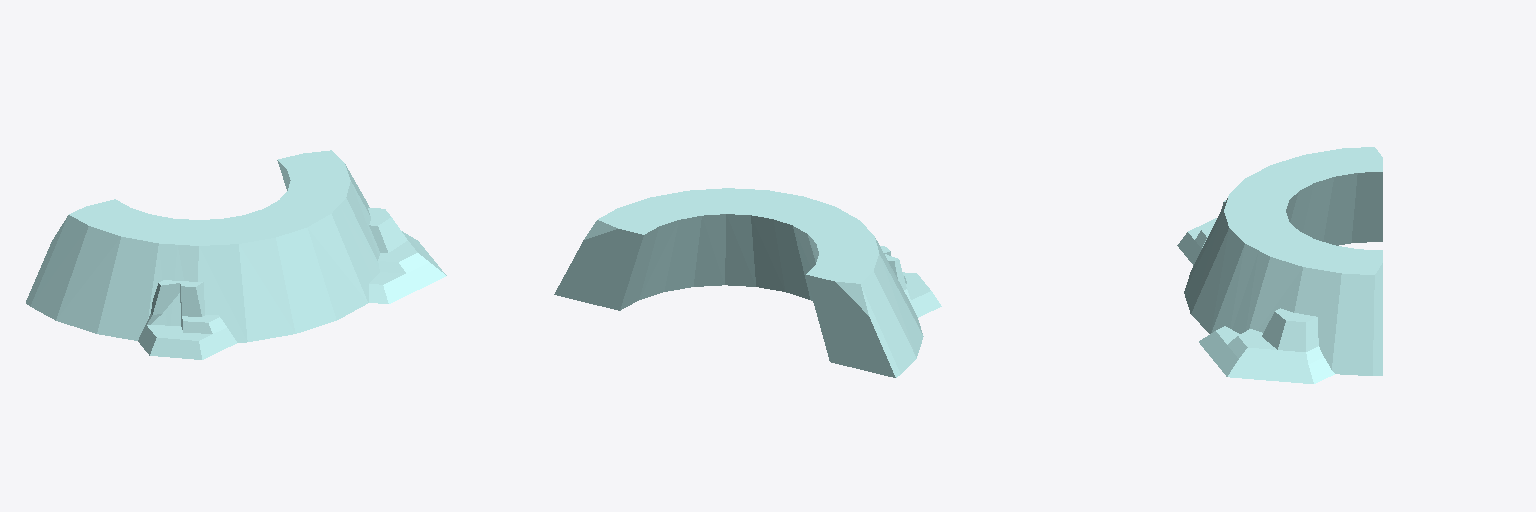
The model's file is snowFort.obj.
3 renders of one model, left to right at view 1: azimuth 30°, elevation 25°; view 2: azimuth 150°, elevation 25°; view 3: azimuth 270°, elevation 25°, orthographic.
Parts seen in each view (by area): view 1: snowFort; view 2: snowFort; view 3: snowFort.
Part boxes in pixels (x1,y1,x2,y2): snowFort: (26,150,446,359); snowFort: (554,188,941,377); snowFort: (1177,147,1382,383).
Size of the model in its own units: 1.33 by 0.2905 by 0.6613.